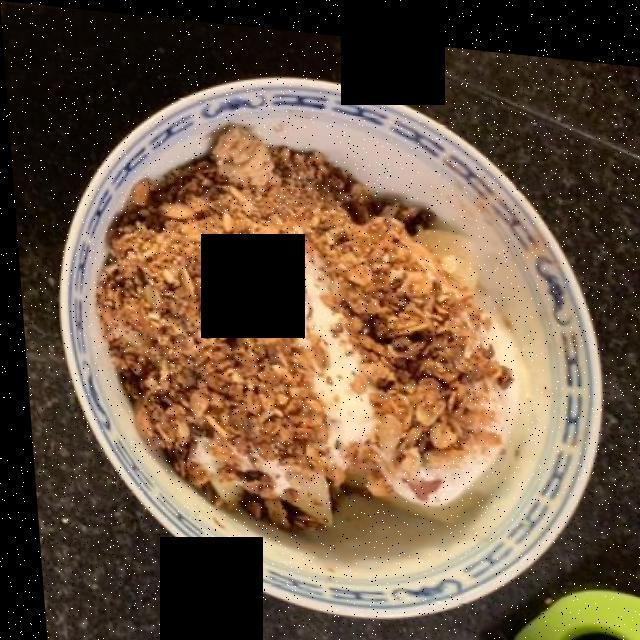crunch-muesli: (98, 133, 516, 521)
